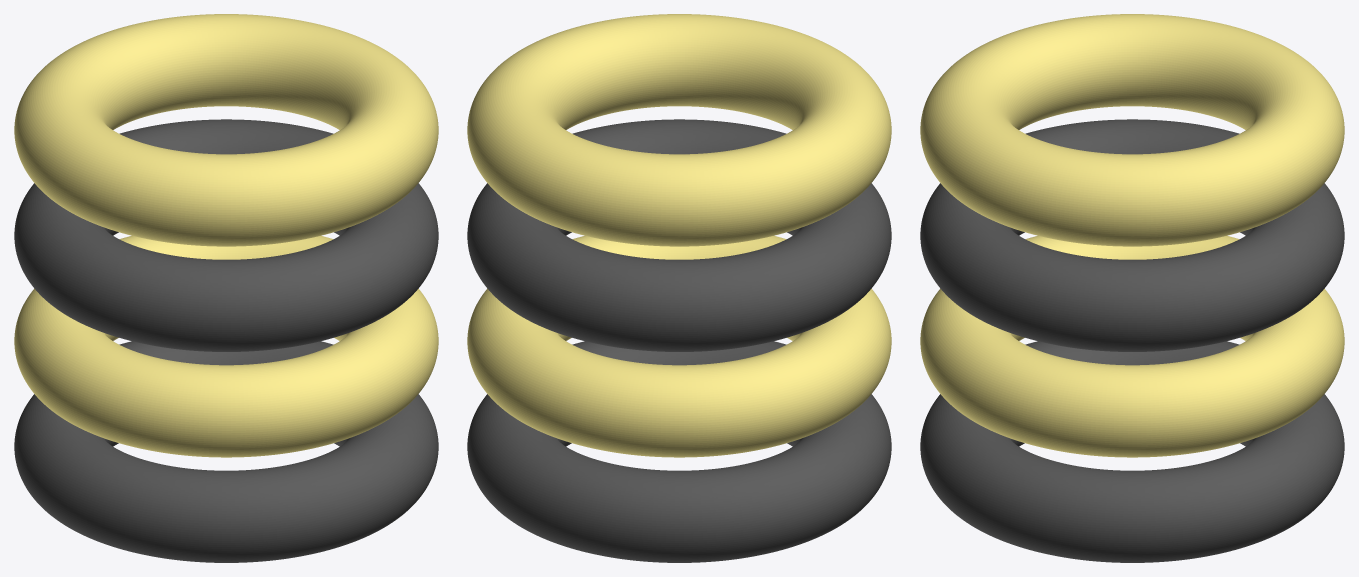
Rendered from Toy_TireStack_Hi.fbx.
3 views of the same model, side by side, from view 1: azimuth 30°, elevation 25°; view 2: azimuth 150°, elevation 25°; view 3: azimuth 270°, elevation 25° (orthographic).
Visible parts, largest first — view 1: Torus.003, Torus.002, Torus.001, Torus; view 2: Torus.003, Torus.002, Torus.001, Torus; view 3: Torus.003, Torus.002, Torus.001, Torus.
Boxes of the visible parts, x1,y1,x2,y2 form: Torus.003: [14, 14, 438, 246]; Torus.002: [14, 119, 438, 351]; Torus.001: [14, 236, 438, 457]; Torus: [14, 341, 438, 562]; Torus.003: [467, 14, 891, 246]; Torus.002: [467, 119, 891, 351]; Torus.001: [467, 236, 891, 457]; Torus: [467, 341, 891, 562]; Torus.003: [920, 14, 1344, 246]; Torus.002: [920, 119, 1344, 351]; Torus.001: [920, 236, 1344, 457]; Torus: [920, 341, 1344, 562].
Size of the model in its own units: 1.28 by 1.33 by 1.28.
